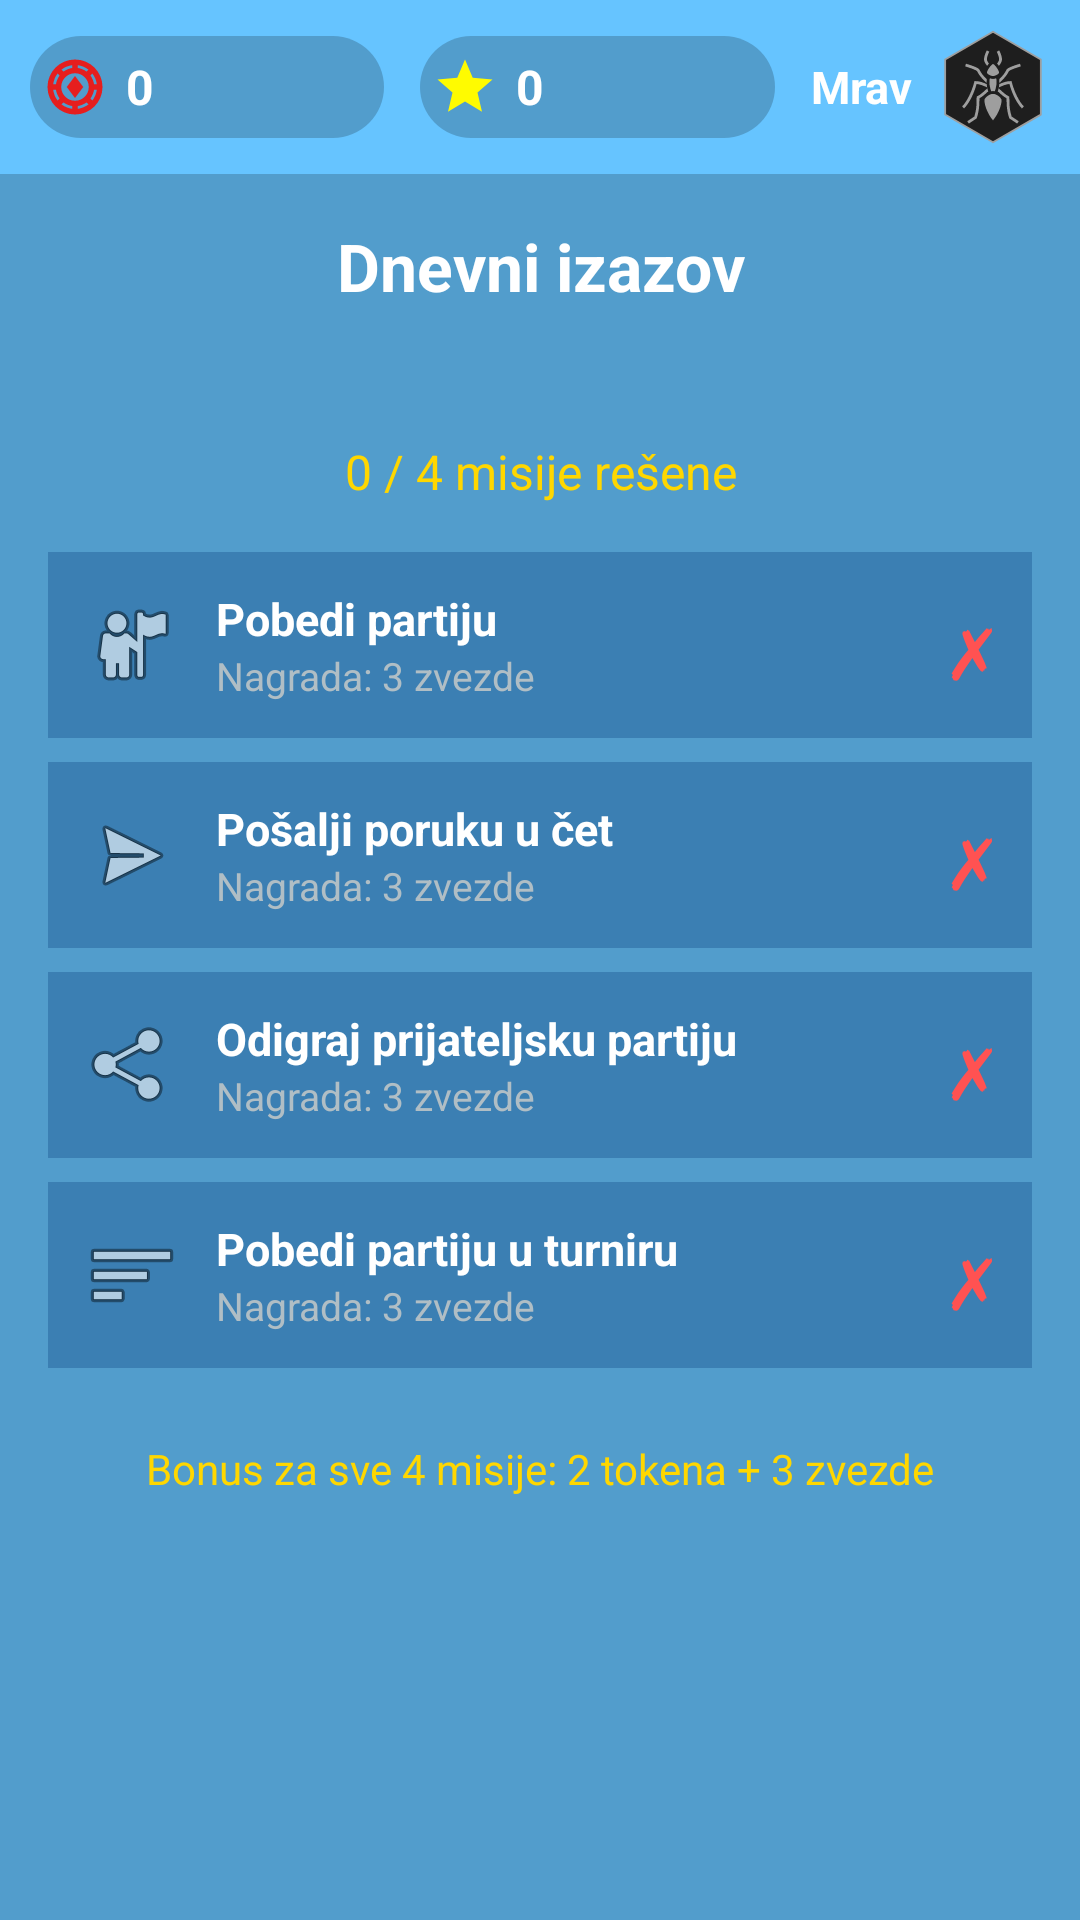

Icons on this 1080 × 1920 Android screen, each with its box as [x1=x1, y1=y1, x2=x2, y2=y2]:
Liga: [x1=944, y1=31, x2=1042, y2=143]
myplaces: [x1=97, y1=609, x2=169, y2=681]
send: [x1=102, y1=825, x2=163, y2=886]
share: [x1=91, y1=1027, x2=163, y2=1102]
sort by size: [x1=91, y1=1249, x2=173, y2=1302]
Tokeni: [x1=47, y1=59, x2=103, y2=115]
Zvezde: [x1=438, y1=60, x2=492, y2=112]
